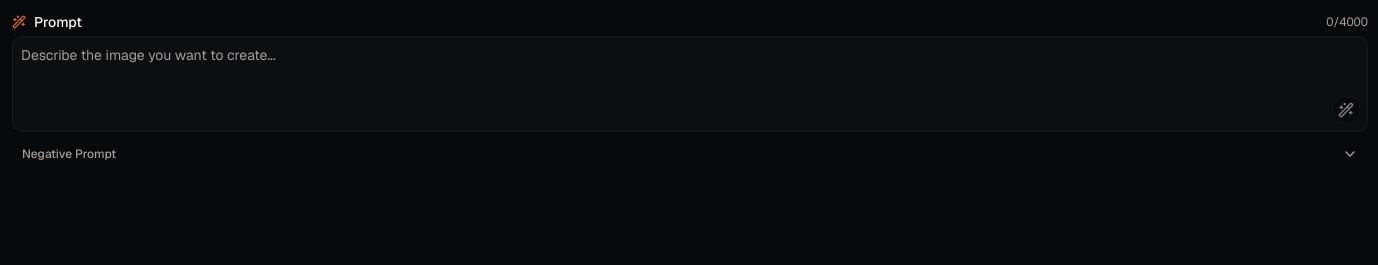
PromptSection › negative prompt EnhanceButton disabled state › disables negative enhance button when negative prompt is empty
The width and height of the screenshot is (1378, 265).
Open negative prompt section
Click the button with test id "negative-prompt-toggle".
click(69, 154)  # box left=12, top=138, right=1368, bottom=170
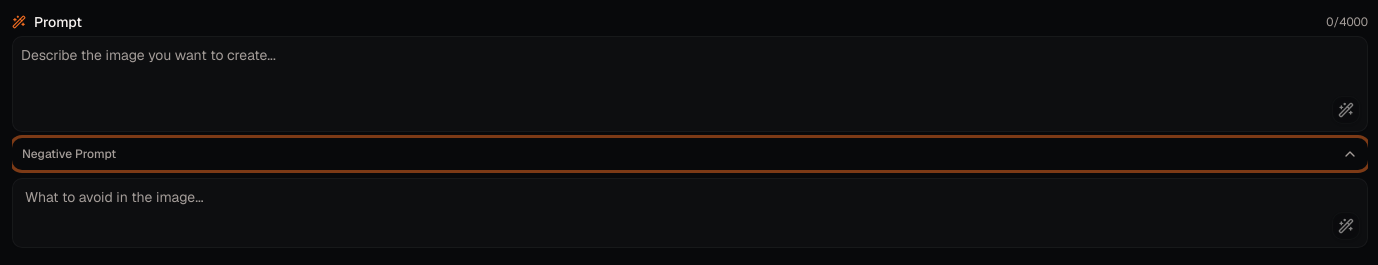
Check: the text box with test id "negative-prompt-input" is shown, box left=12, top=178, right=1368, bottom=248
Check: the 2nd button named "Enhance with AI" is disabled, box left=1332, top=212, right=1360, bottom=240
